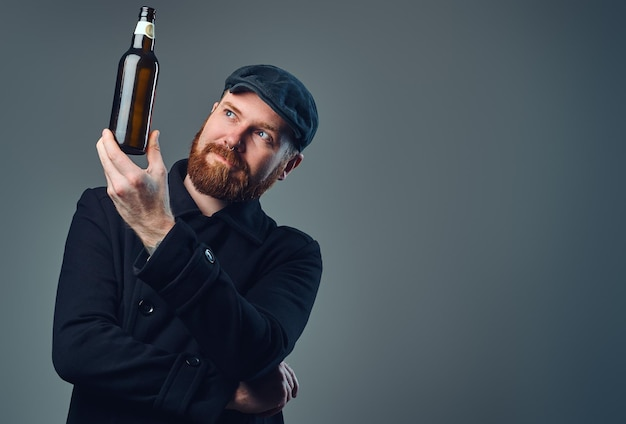alcohol: (105, 5, 162, 155)
